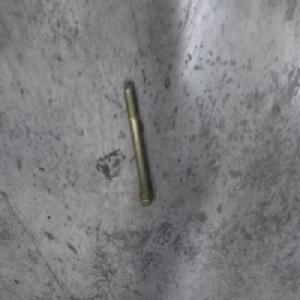Bolt: (123, 80, 153, 205)
